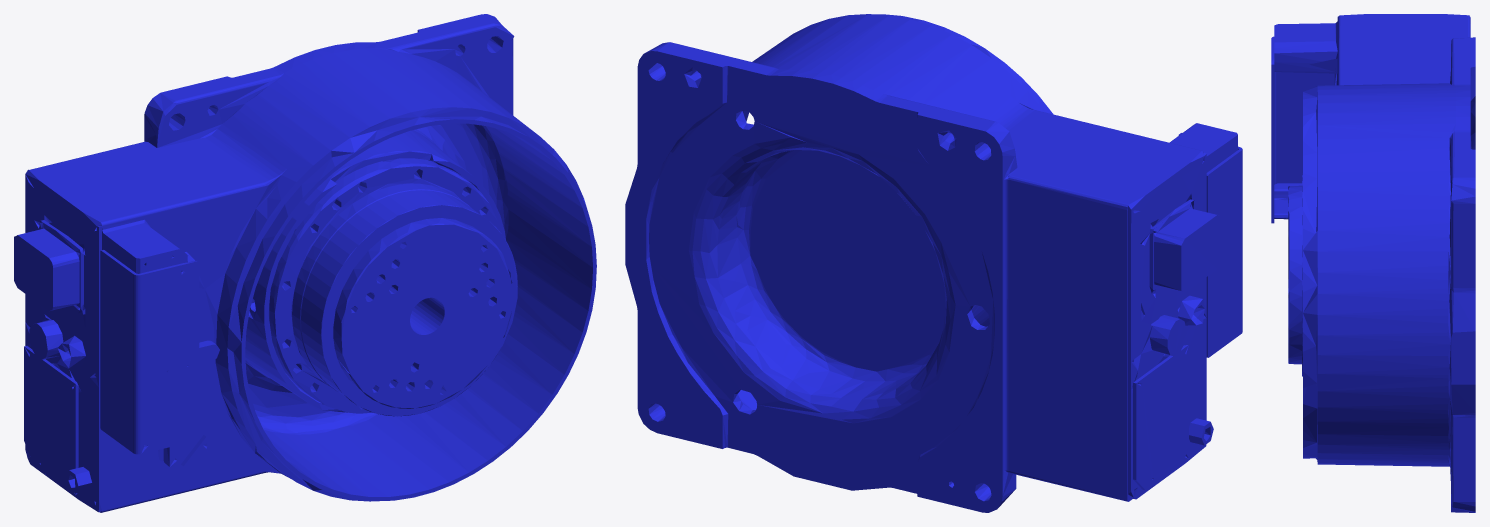
Rendered from BaseLink.glb.
The picture shows the model from 3 angles, left to right: view 1: azimuth 30°, elevation 25°; view 2: azimuth 150°, elevation 25°; view 3: azimuth 270°, elevation 25°; orthographic projection. The views are drawn at different scales.
Parts seen in each view (by area): view 1: /BaseLink/BaseLink-mesh/0; view 2: /BaseLink/BaseLink-mesh/0; view 3: /BaseLink/BaseLink-mesh/0.
Part boxes in pixels (x1,y1,x2,y2): /BaseLink/BaseLink-mesh/0: (14,14,596,512); /BaseLink/BaseLink-mesh/0: (625,14,1242,512); /BaseLink/BaseLink-mesh/0: (1271,14,1475,512).
Size of the model in its own units: 0.5479 by 0.3955 by 0.2082.
